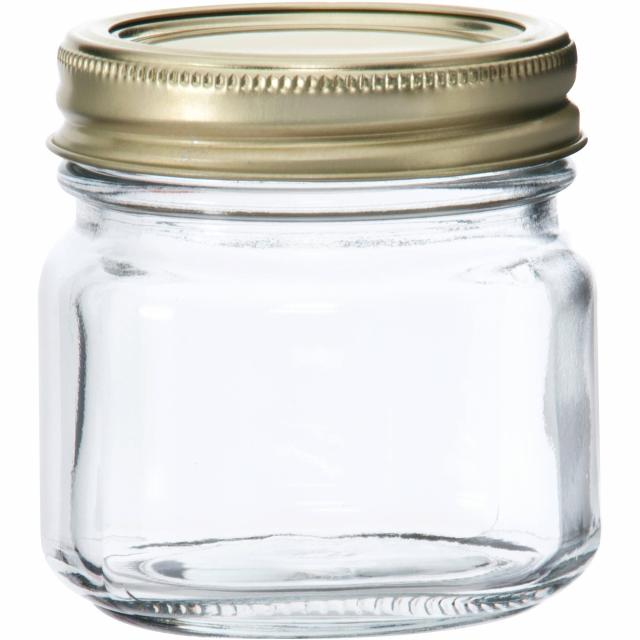non-organic waste: (39, 5, 601, 638)
